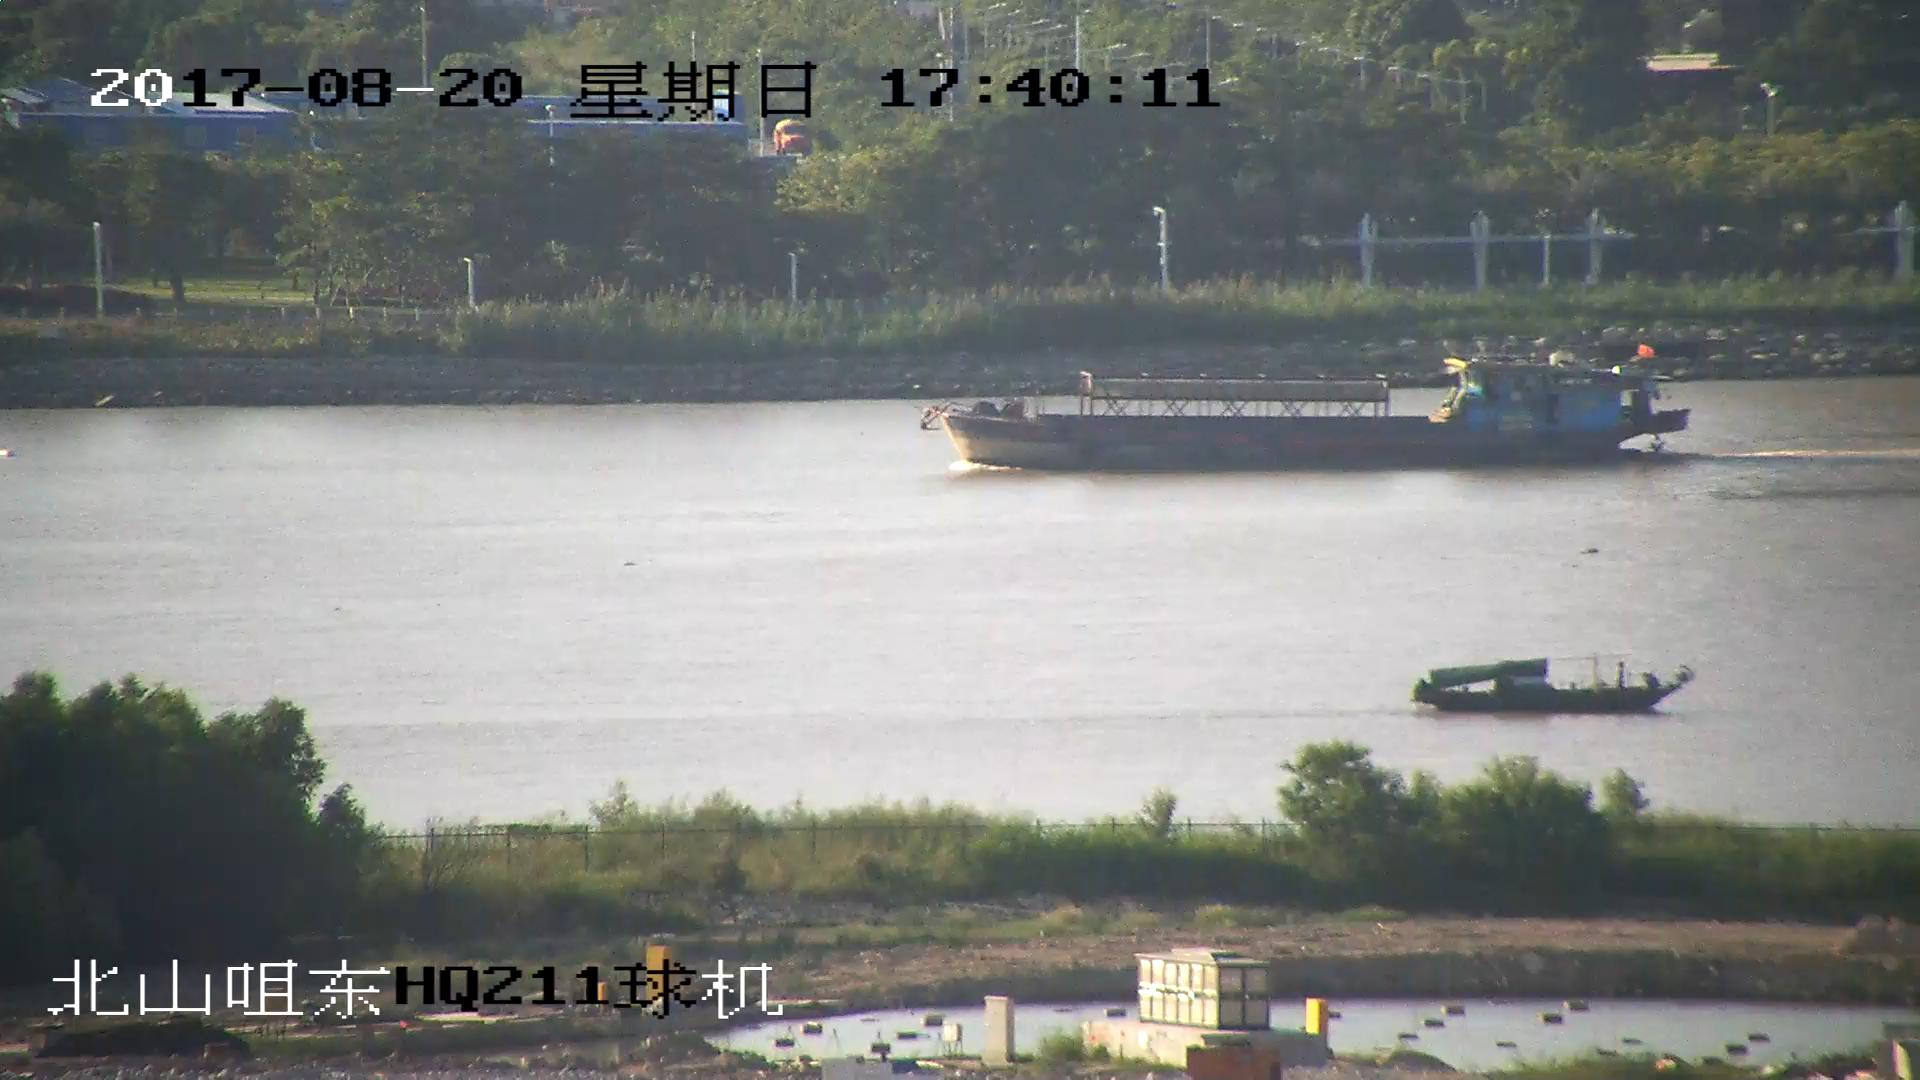fishing boat: (919, 344, 1690, 473), (1411, 656, 1690, 709)
